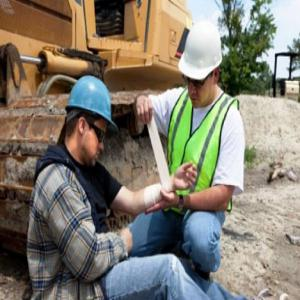blue: (66, 74, 114, 167)
white: (180, 19, 224, 108)
